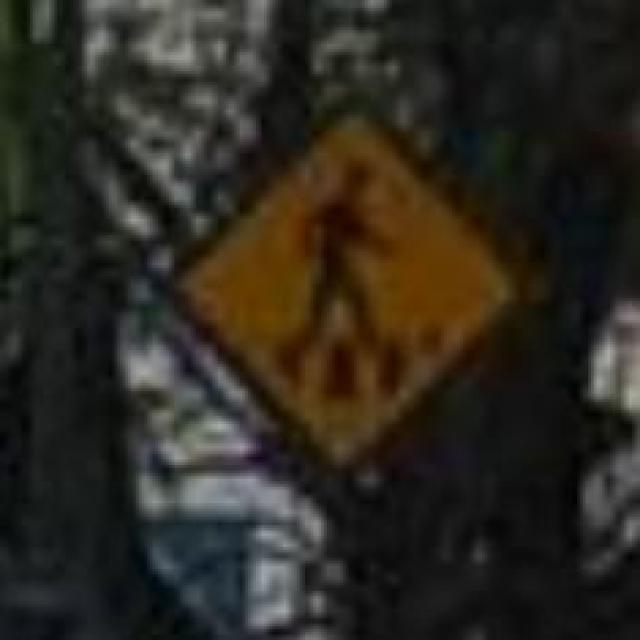traffic sign: (202, 118, 510, 446)
